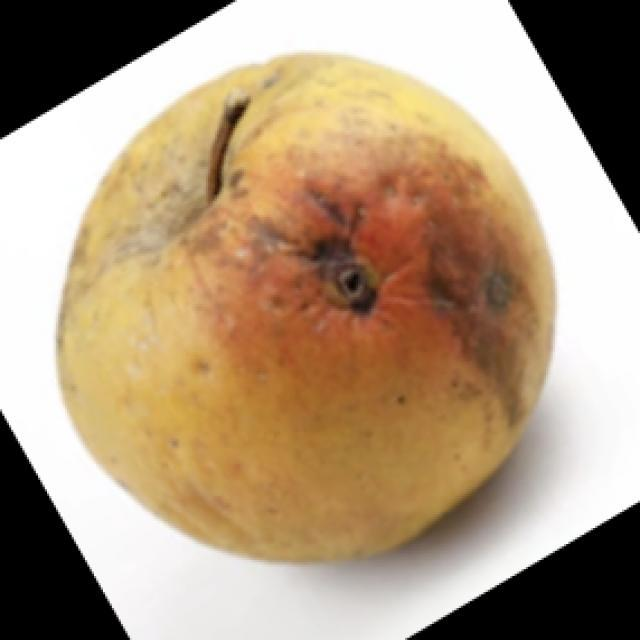Rotten: (71, 68, 552, 550)
